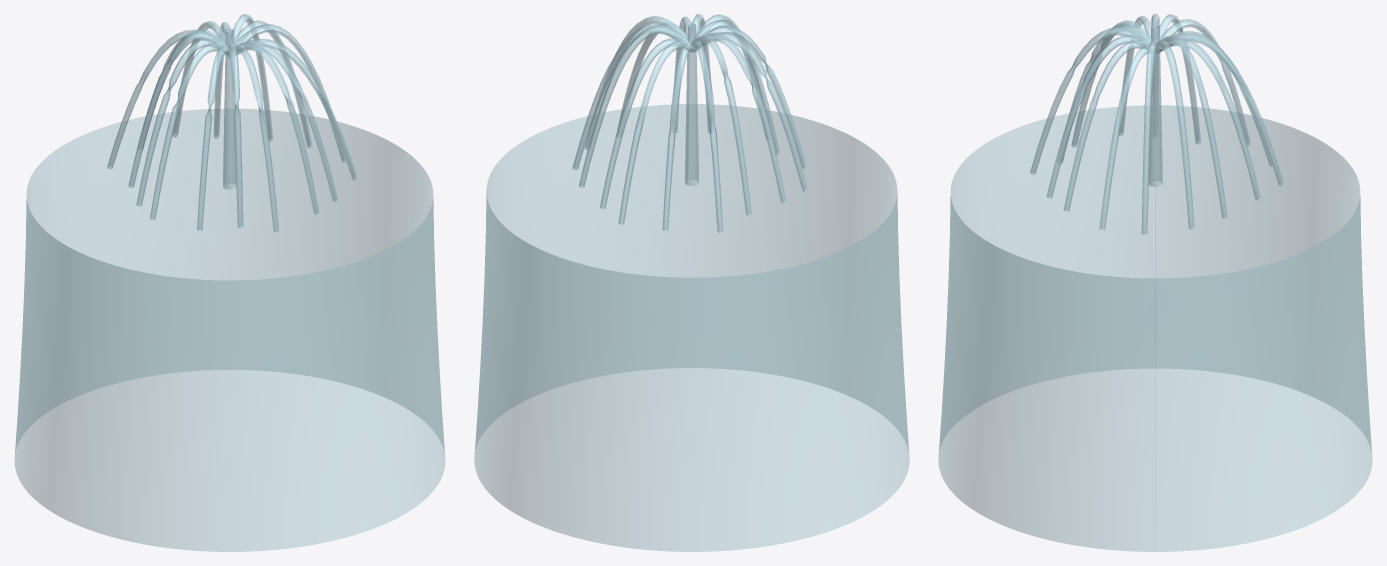
File: FountainFX_jets.glb
3 renders of one model, left to right at view 1: azimuth 30°, elevation 25°; view 2: azimuth 150°, elevation 25°; view 3: azimuth 270°, elevation 25°, orthographic.
Visible parts, largest first — view 1: FountainFX_jets; view 2: FountainFX_jets; view 3: FountainFX_jets.
Boxes of the visible parts, x1,y1,x2,y2 form: FountainFX_jets: (15,14,444,551); FountainFX_jets: (474,14,909,551); FountainFX_jets: (938,14,1372,551).
Bounding box in the file's own units: 0.5 × 0.5521 × 0.5.
